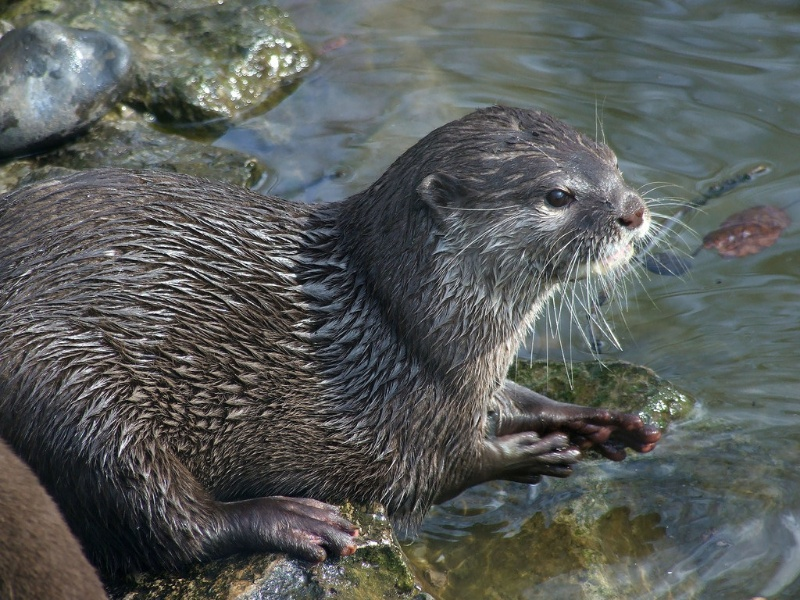minkish: (2, 76, 665, 594)
